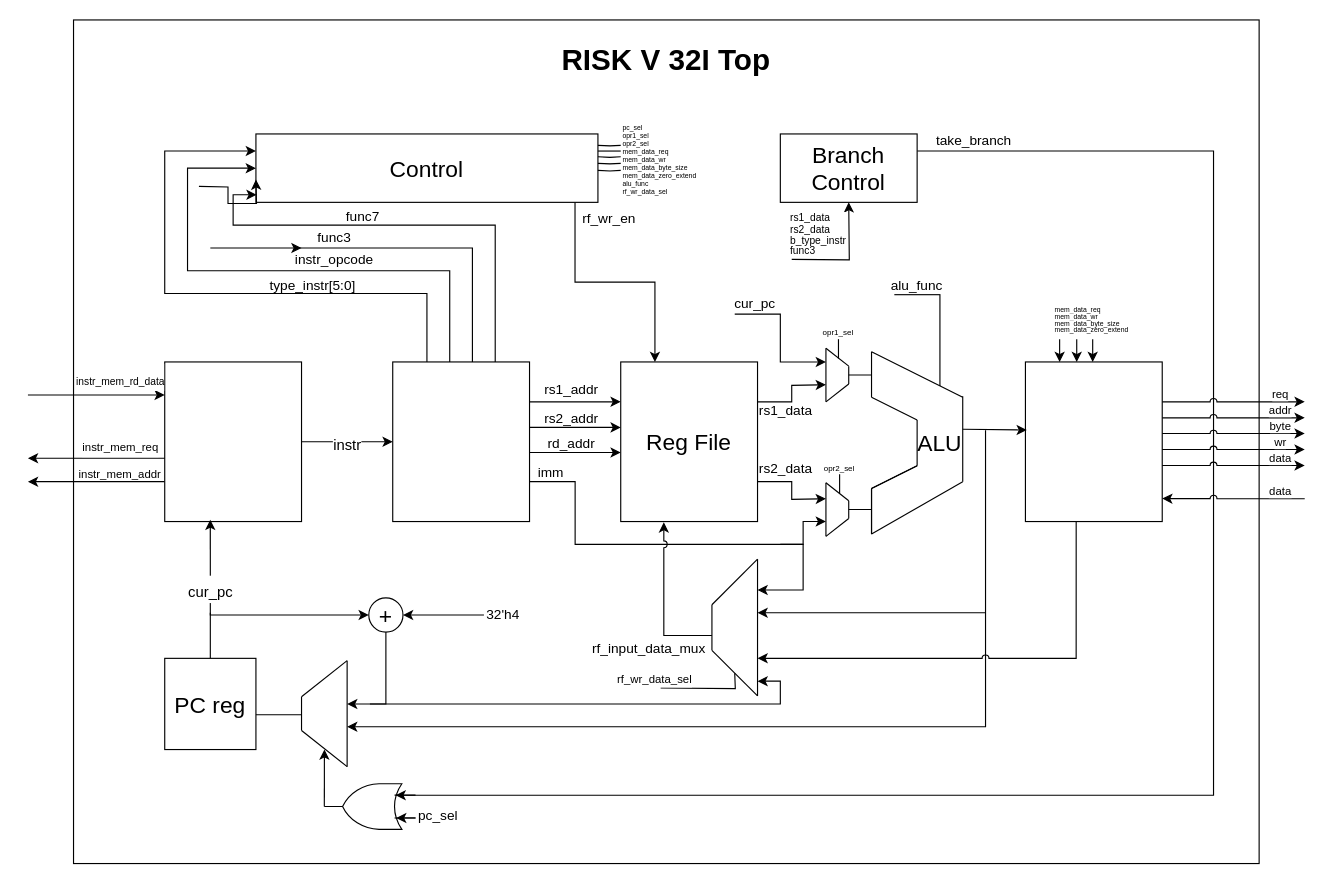
This 1334x884 diagram has some shape labels left out. Each missing label, with the box of its shape:
Data-Mem Interface: (1024, 361, 1162, 522)
Decode: (392, 361, 530, 522)
Instr-Mem Interface: (164, 361, 302, 522)
